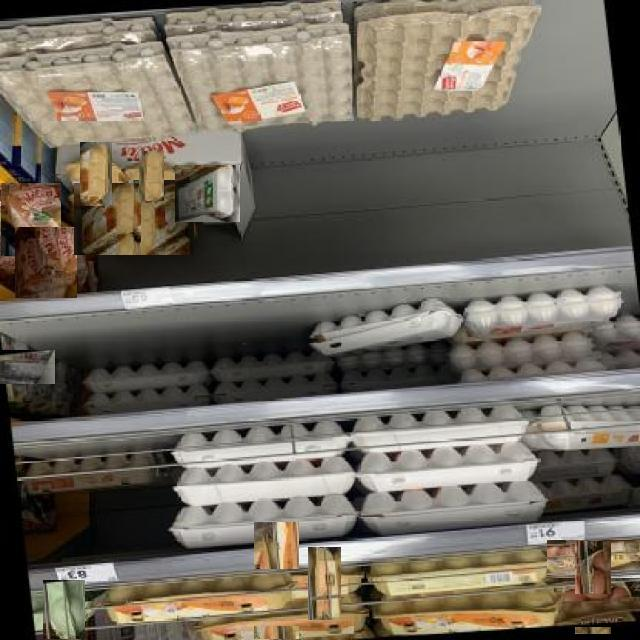Egg: (97, 569, 306, 626), (373, 583, 564, 637), (20, 447, 173, 498), (254, 522, 299, 640), (129, 180, 194, 255), (74, 184, 141, 255), (0, 182, 61, 256), (14, 227, 77, 298), (174, 166, 240, 222), (546, 539, 640, 578), (575, 540, 611, 634), (539, 594, 640, 627), (43, 580, 85, 640), (309, 546, 341, 620), (80, 142, 112, 206), (0, 350, 55, 384), (139, 150, 164, 201)
